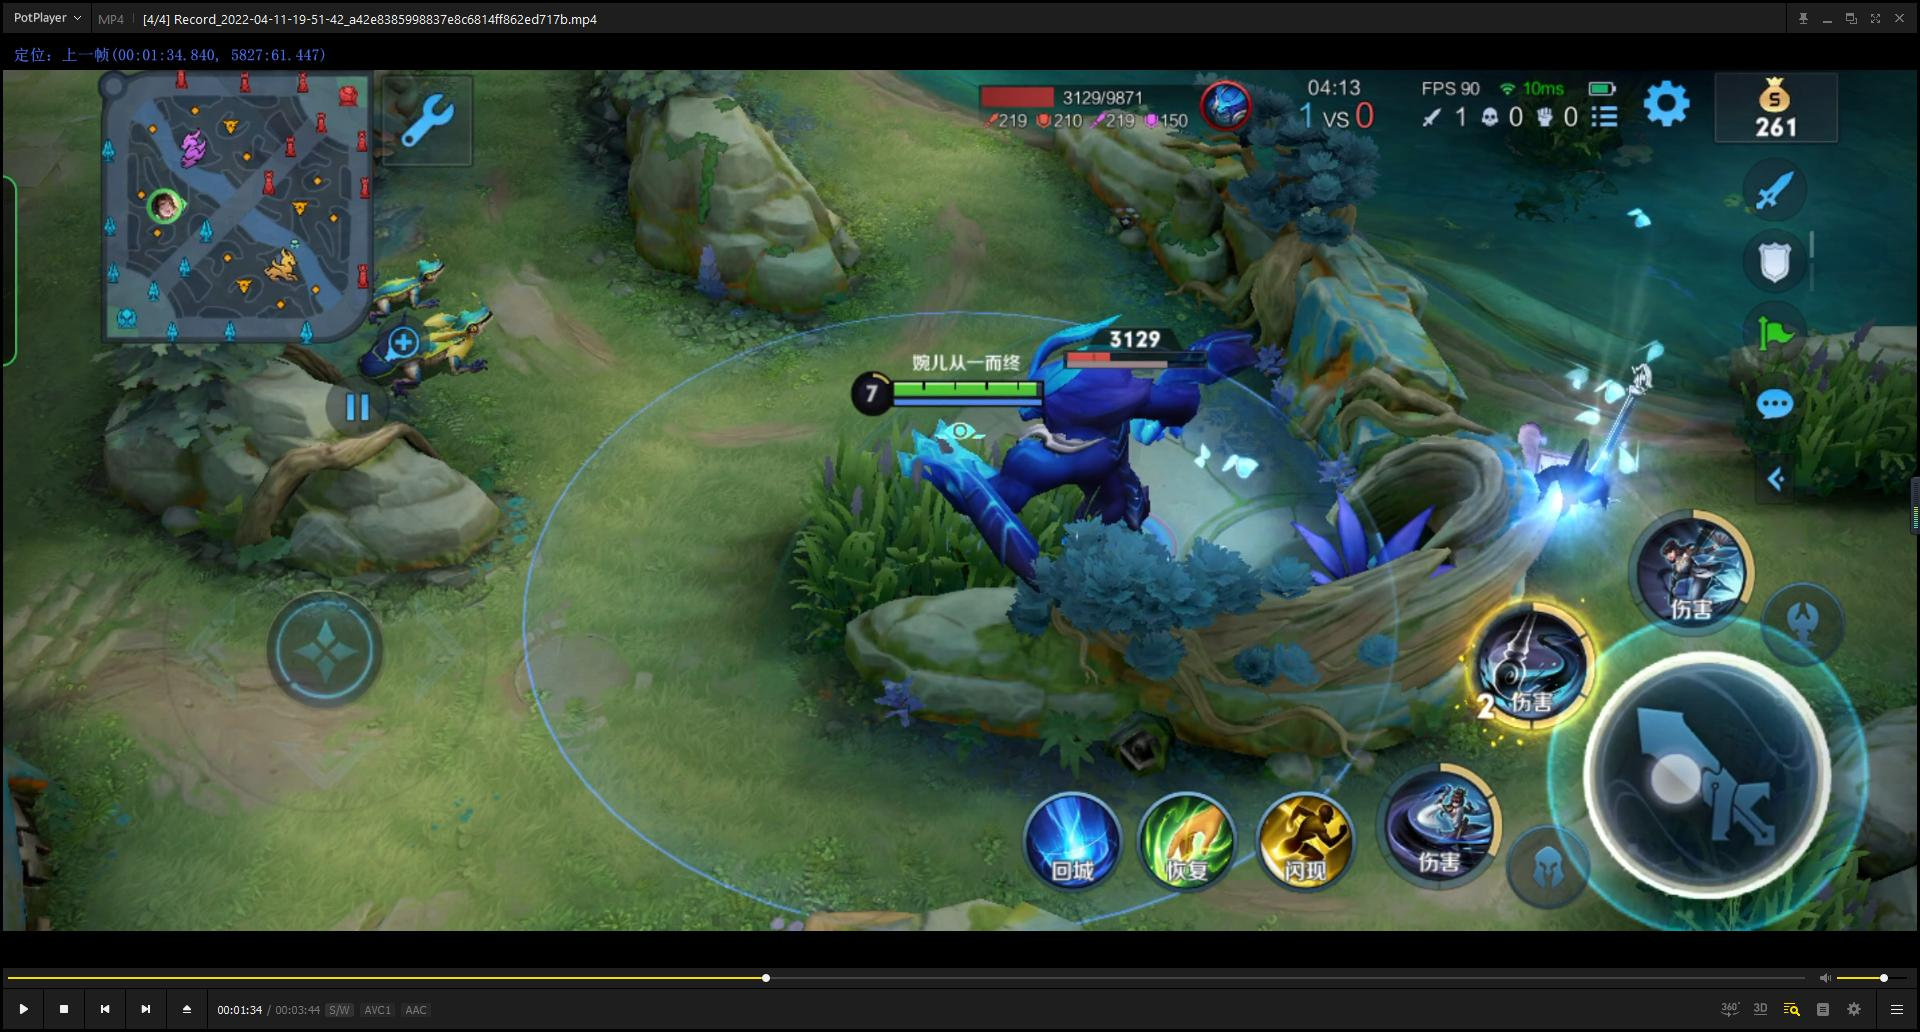Buff: (874, 305, 1273, 632)
Lizard: (363, 290, 492, 399), (346, 249, 455, 320)
